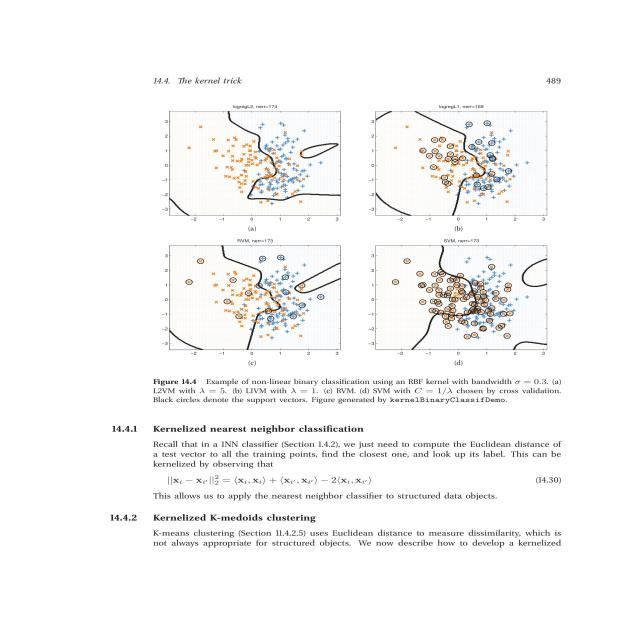diagram: (113, 90, 593, 412)
